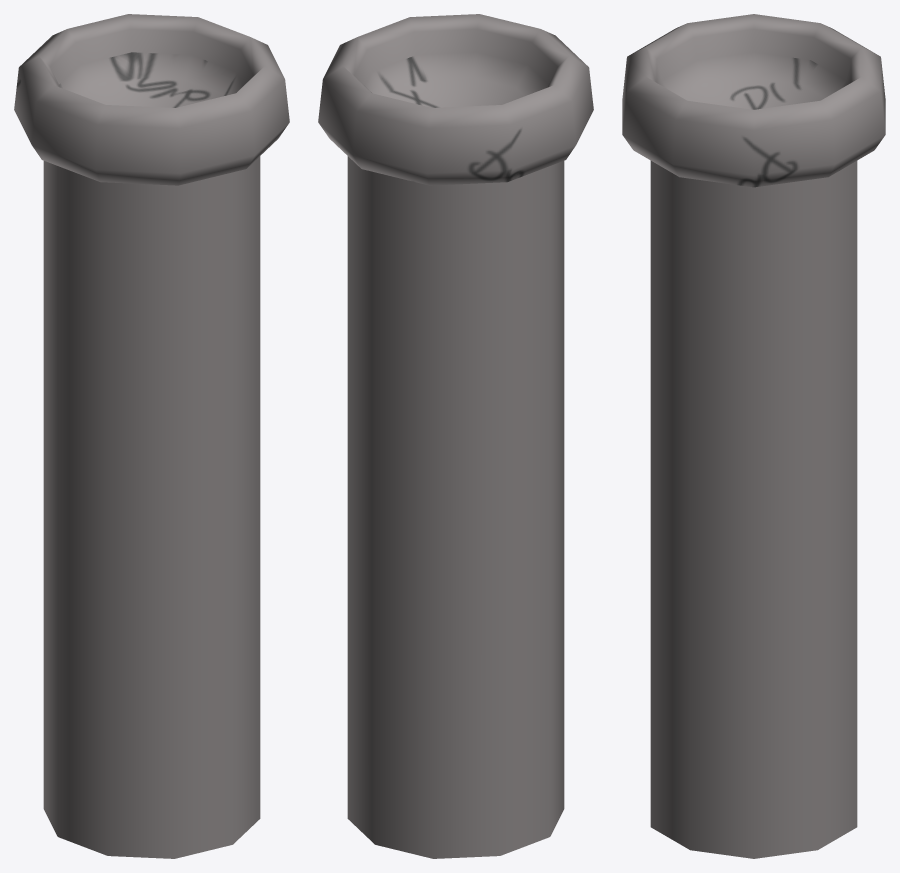
File: SM_Pillar.fbx
3 renders of one model, left to right at view 1: azimuth 30°, elevation 25°; view 2: azimuth 150°, elevation 25°; view 3: azimuth 270°, elevation 25°, orthographic.
Parts seen in each view (by area): view 1: Pillar; view 2: Pillar; view 3: Pillar.
Boxes of the visible parts, box(x1,y1,x2,y2) form: Pillar: box(14, 14, 289, 858); Pillar: box(318, 14, 593, 858); Pillar: box(622, 14, 885, 858).
Size of the model in its own units: 31.69 by 94.95 by 30.14.
